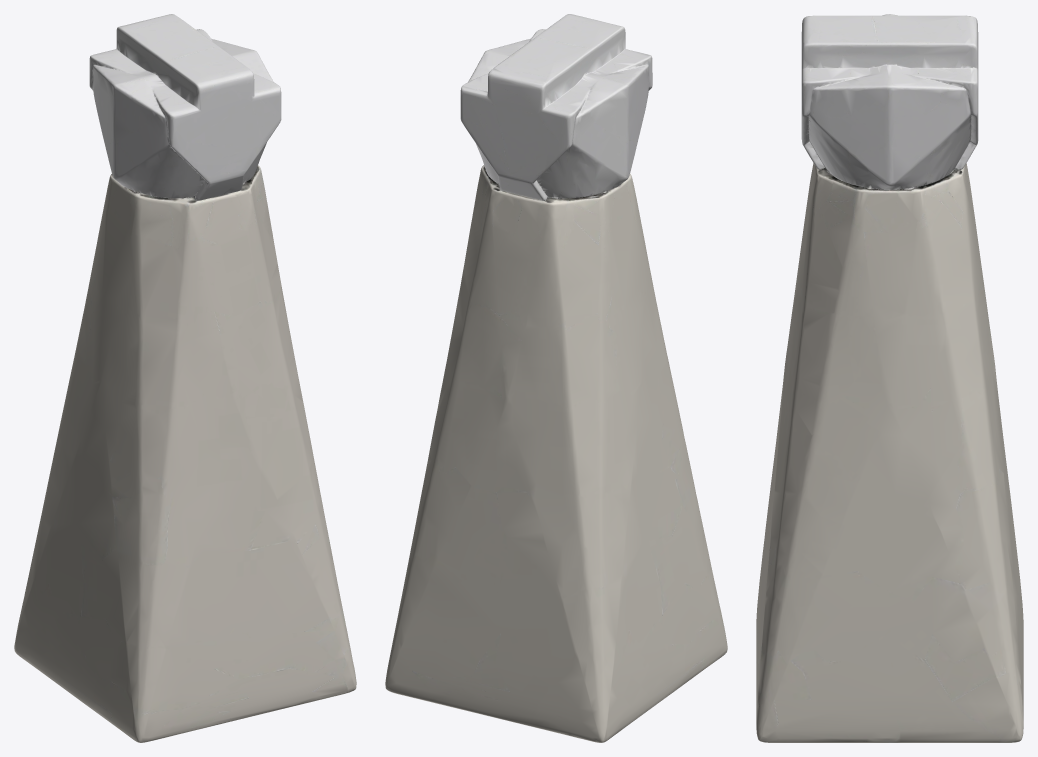
Rendered from rook-white-hd.glb.
The picture shows the model from 3 angles, left to right: view 1: azimuth 30°, elevation 25°; view 2: azimuth 150°, elevation 25°; view 3: azimuth 270°, elevation 25°; orthographic projection. The views are drawn at different scales.
Bounding box in the file's own units: 0.4609 × 1.25 × 0.4593.
1 material, 1 textured.
